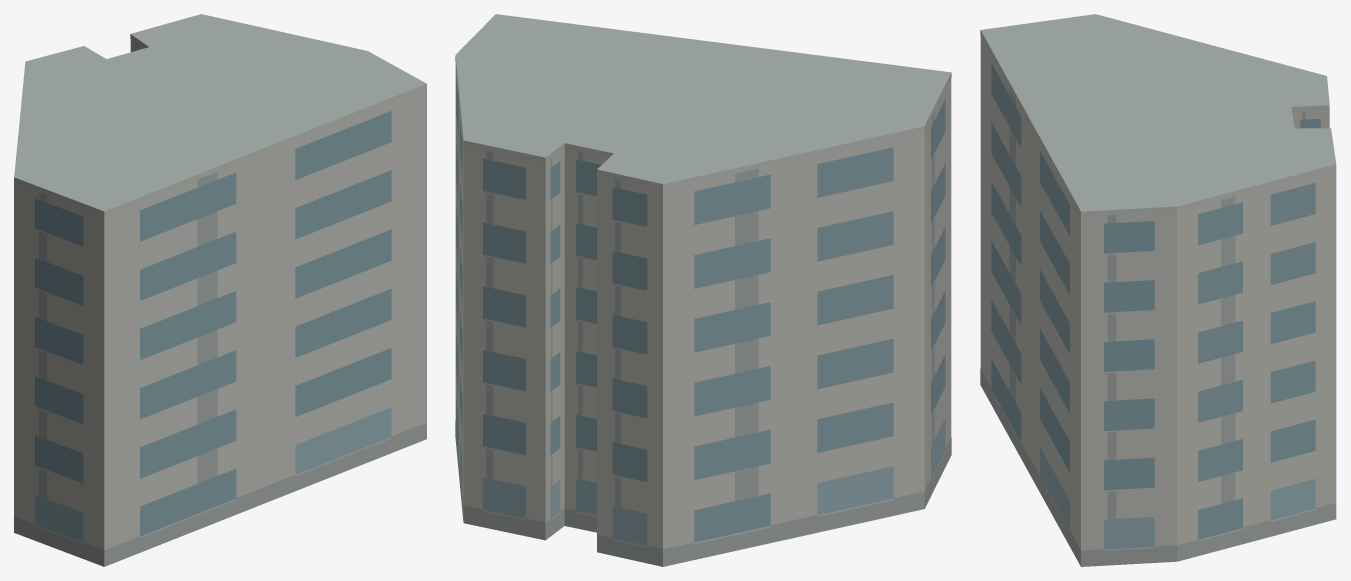
Rendered from survey-upis-32912501.glb.
3 renders of one model, left to right at view 1: azimuth 30°, elevation 25°; view 2: azimuth 150°, elevation 25°; view 3: azimuth 270°, elevation 25°, orthographic. The views are drawn at different scales.
Parts seen in each view (by area): view 1: survey-upis-32912501.tmp; view 2: survey-upis-32912501.tmp; view 3: survey-upis-32912501.tmp.
Part boxes in pixels (x1,y1,x2,y2): survey-upis-32912501.tmp: (14,14,426,566); survey-upis-32912501.tmp: (455,14,951,566); survey-upis-32912501.tmp: (980,14,1336,566).
Size of the model in its own units: 20.07 by 16.8 by 15.26.
